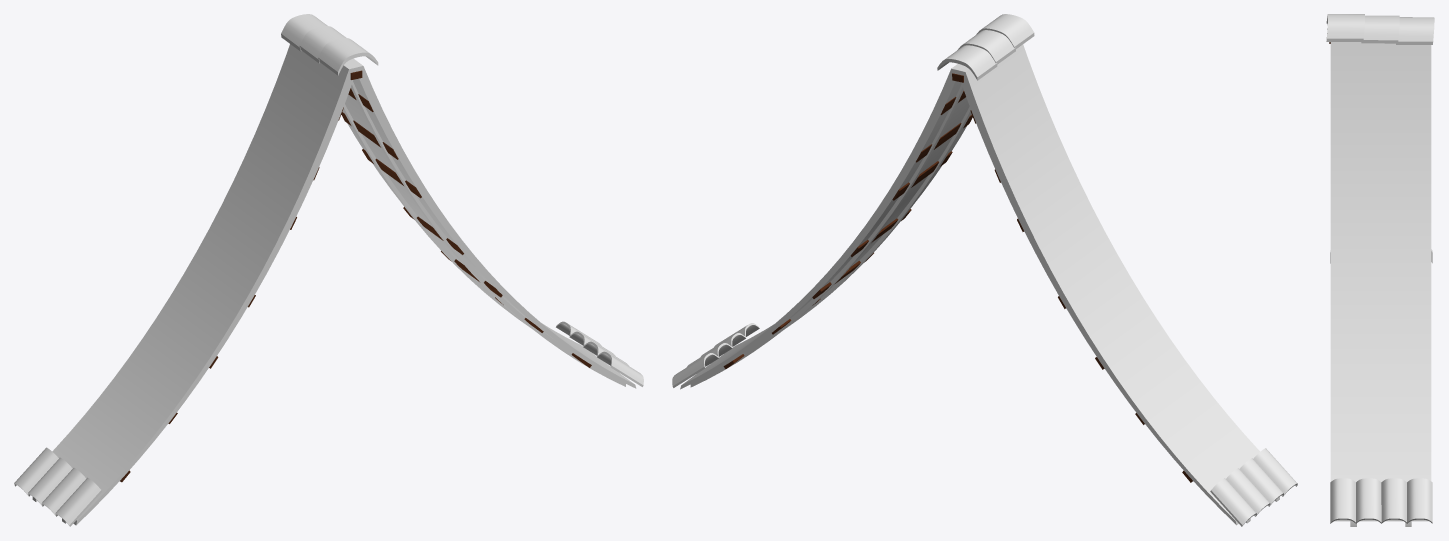
File: L_Roof_NoFrame test.fbx
The picture shows the model from 3 angles, left to right: view 1: azimuth 30°, elevation 25°; view 2: azimuth 150°, elevation 25°; view 3: azimuth 270°, elevation 25°; orthographic projection. The views are drawn at different scales.
Parts seen in each view (by area): view 1: L_Roof_NoFrame.001, Cube.026, roof tile no move.005, roof tile no move.009, roof tile no move.006, roof tile no move.008, roof tile no move.007, roof tile no move.004, roof tile no move.003; view 2: L_Roof_NoFrame.001, Cube.026, roof tile no move.003, roof tile no move.006, roof tile no move.005, roof tile no move.004, roof tile no move.007, roof tile no move.008, roof tile no move.009; view 3: L_Roof_NoFrame.001, roof tile no move.012, roof tile no move.010, roof tile no move.011, roof tile no move.013, roof tile no move.005, roof tile no move.004, roof tile no move.003.
Part boxes in pixels (x1,y1,x2,y2): L_Roof_NoFrame.001: (32, 44, 636, 525); Cube.026: (120, 70, 591, 482); roof tile no move.005: (318, 38, 378, 75); roof tile no move.009: (55, 477, 101, 526); roof tile no move.006: (14, 447, 58, 495); roof tile no move.008: (41, 468, 86, 516); roof tile no move.007: (28, 457, 72, 506); roof tile no move.004: (299, 26, 346, 63); roof tile no move.003: (281, 14, 327, 51); L_Roof_NoFrame.001: (680, 44, 1279, 525); Cube.026: (723, 73, 1192, 482); roof tile no move.003: (937, 45, 997, 80); roof tile no move.006: (1210, 478, 1256, 526); roof tile no move.005: (976, 14, 1034, 48); roof tile no move.004: (958, 30, 1015, 64); roof tile no move.007: (1226, 468, 1270, 515); roof tile no move.008: (1240, 458, 1283, 504); roof tile no move.009: (1253, 448, 1297, 494); L_Roof_NoFrame.001: (1330, 42, 1431, 526); roof tile no move.012: (1356, 478, 1381, 523); roof tile no move.010: (1407, 478, 1432, 523); roof tile no move.011: (1381, 478, 1406, 523); roof tile no move.013: (1330, 478, 1355, 523); roof tile no move.005: (1326, 14, 1364, 41); roof tile no move.004: (1361, 15, 1399, 43); roof tile no move.003: (1396, 17, 1434, 44).
Size of the model in its own units: 1296 by 875 by 224.
